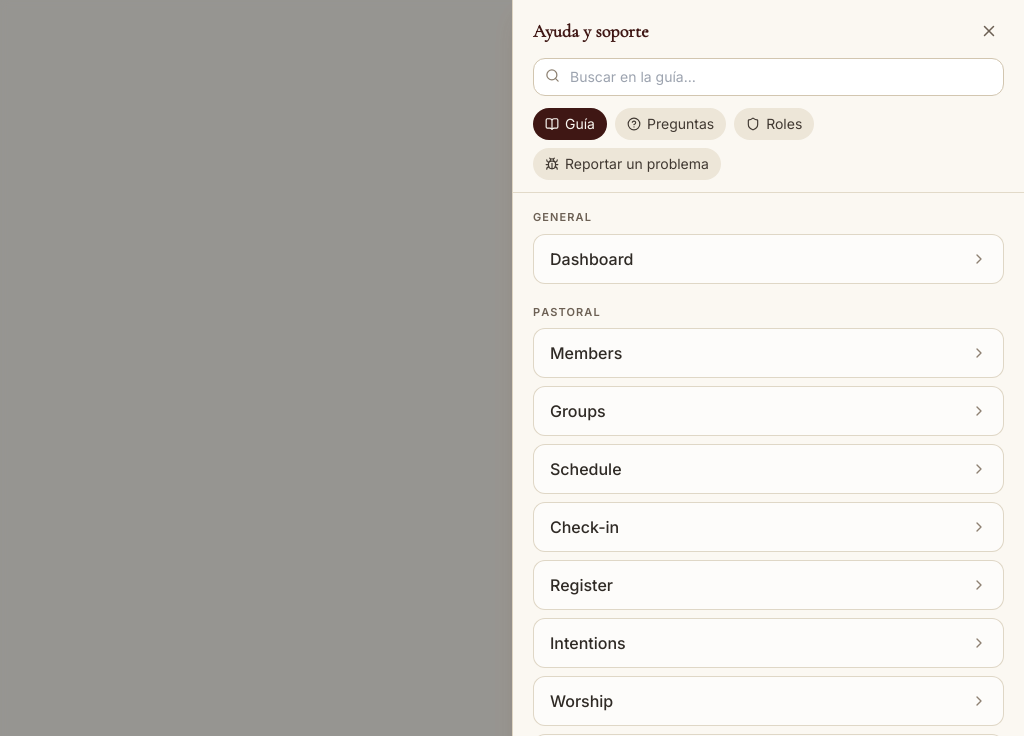
it: earlier reports › Spanish names the failed read
The image size is (1024, 736).
Click the button "Reportar un problema": (627,164) [533,148,721,180]
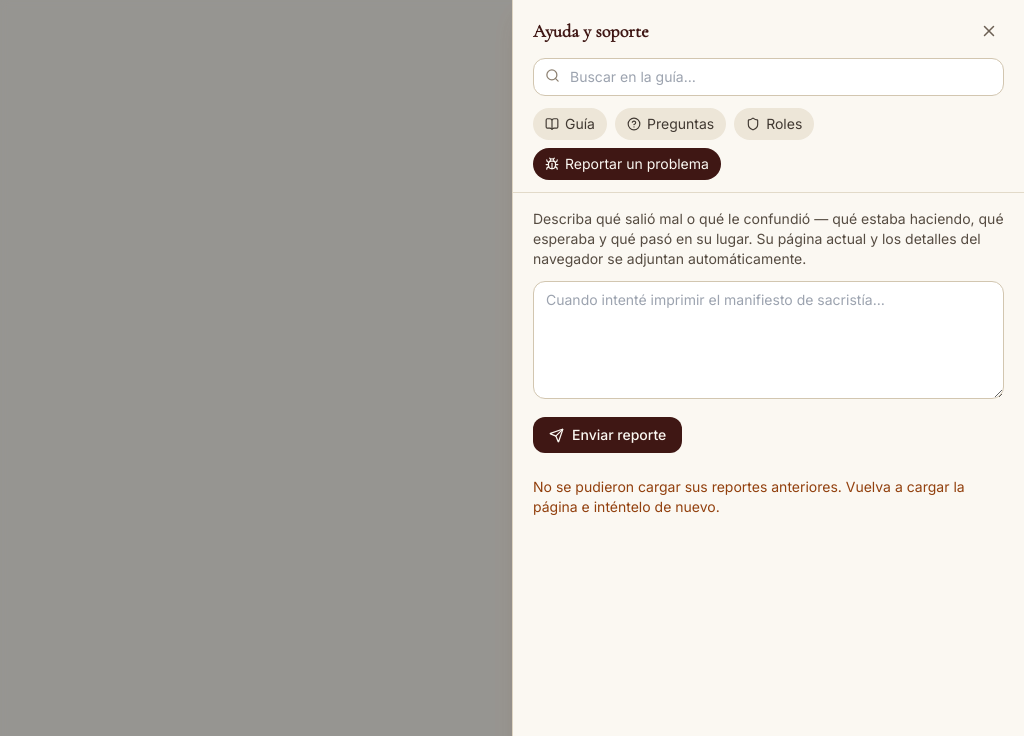
Check: the message shows "No se pudieron cargar sus reportes anteriores. Vuelva a cargar la página e inténtelo de nuevo.", box [533,478,965,515]
